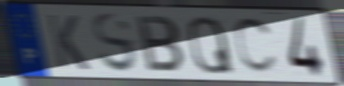4: (287, 15, 327, 80)
B: (134, 13, 188, 75)
C: (231, 15, 279, 76)
K: (44, 12, 93, 73)
Q: (185, 14, 237, 76)
S: (90, 11, 141, 77)
